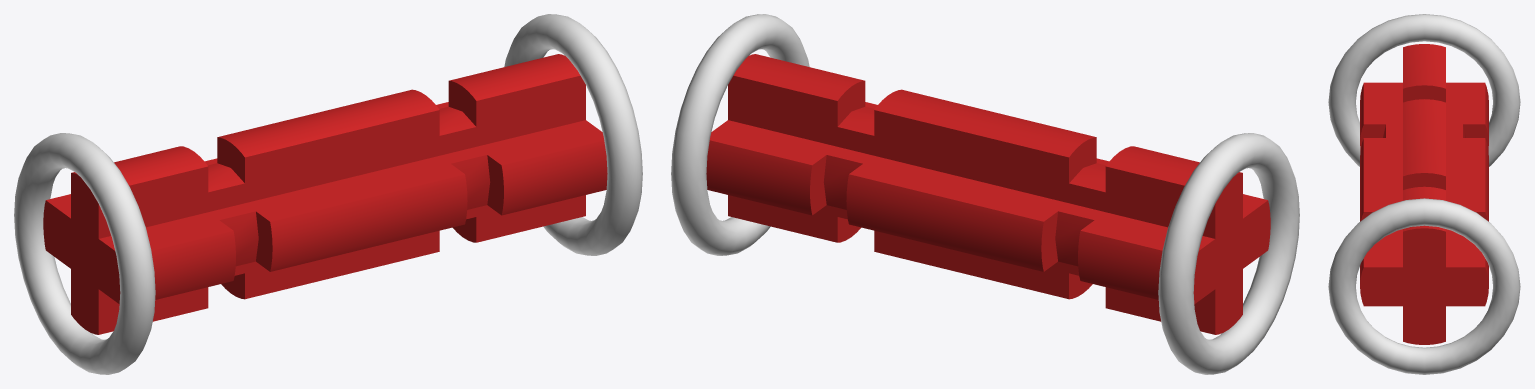
The model's file is fix 1.fbx.
3 renders of one model, left to right at view 1: azimuth 30°, elevation 25°; view 2: azimuth 150°, elevation 25°; view 3: azimuth 270°, elevation 25°, orthographic. The views are drawn at different scales.
Visible parts, largest first — view 1: Axle 2m, SnapDonut, SnapDonut.001; view 2: Axle 2m, SnapDonut, SnapDonut.001; view 3: Axle 2m, SnapDonut.001, SnapDonut.
Boxes of the visible parts, x1,y1,x2,y2 form: Axle 2m: (43,54,607,334); SnapDonut: (14,133,155,374); SnapDonut.001: (504,14,642,255); Axle 2m: (706,54,1270,334); SnapDonut: (1158,133,1299,374); SnapDonut.001: (671,14,809,255); Axle 2m: (1360,44,1488,344); SnapDonut.001: (1328,198,1520,374); SnapDonut: (1328,14,1520,166).
Bounding box in the file's own units: 169 × 70 × 70.
